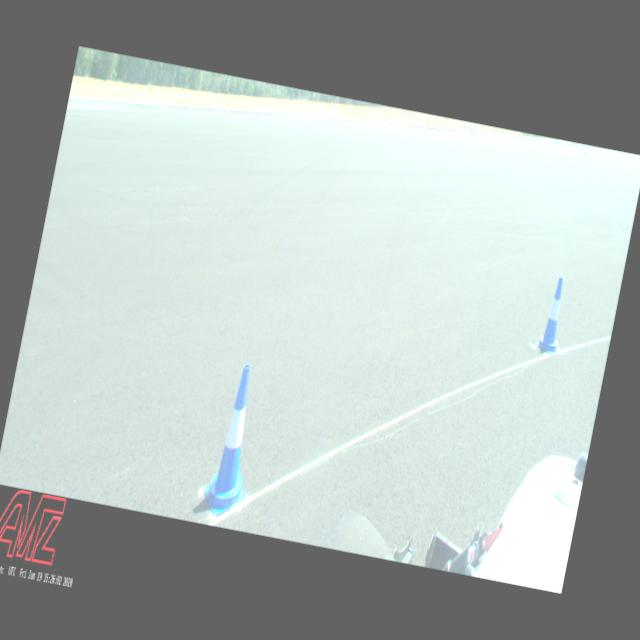blue_cone: (200, 362, 270, 520), (534, 274, 572, 356)
